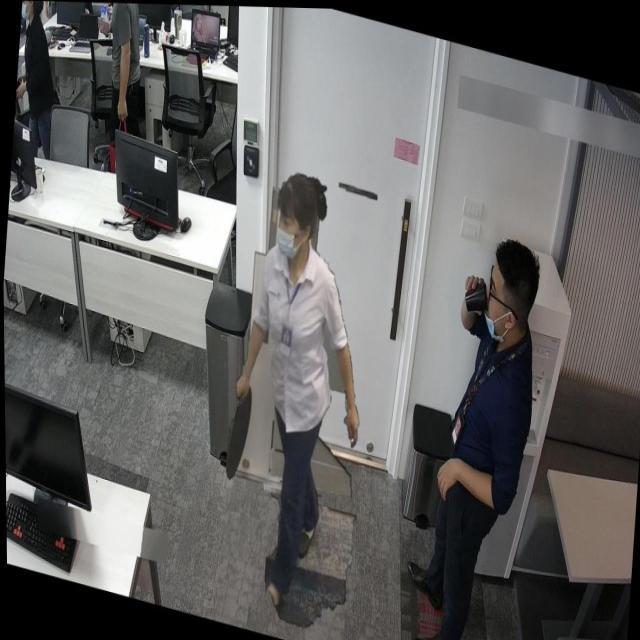hairnet: (481, 262, 514, 344)
